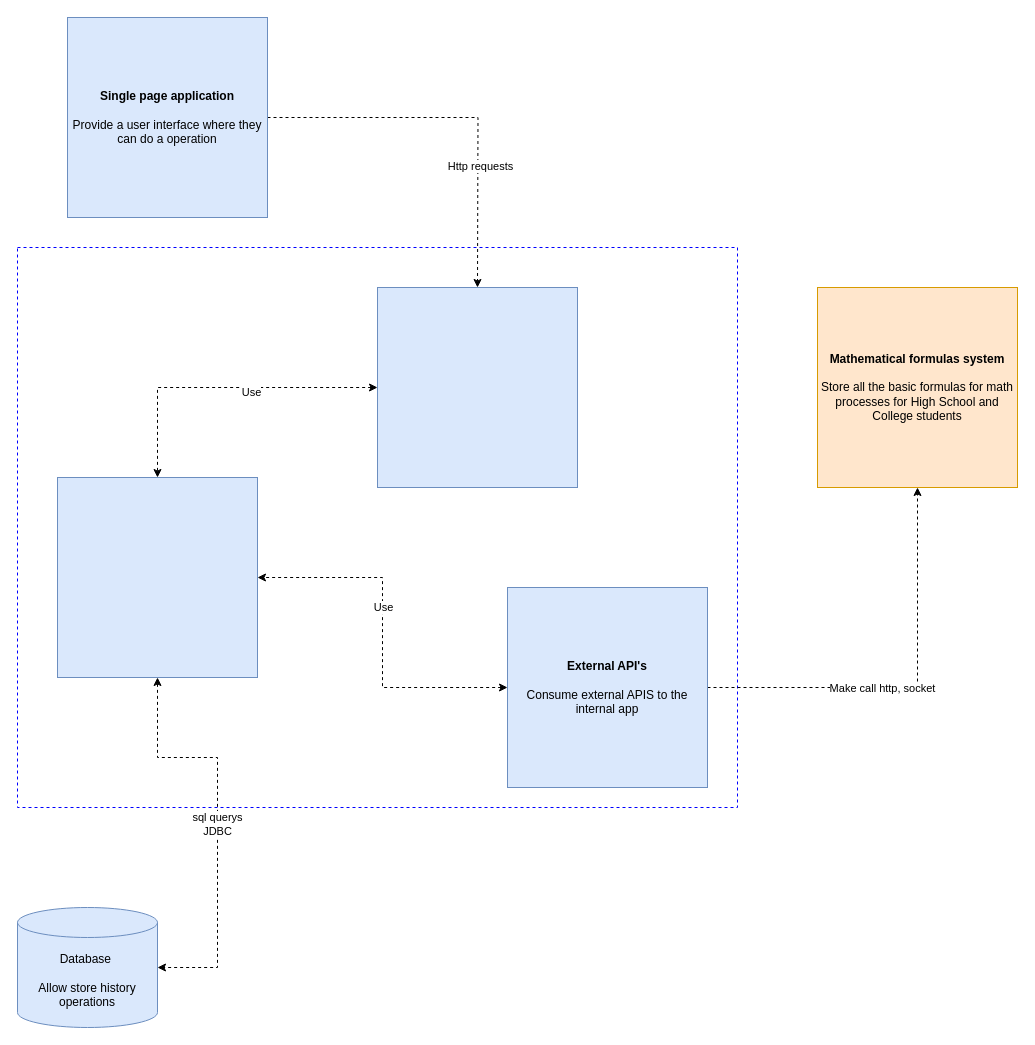
Image size: 1035x1045. Some labels were removed from this diagram. Here are the shapes that lost their labels. From the top down, the centre of each, then its label:
(x=477, y=387): API Router Allow redirect requests to the cotnroller
(x=157, y=577): Operation controller Allow user make operations
